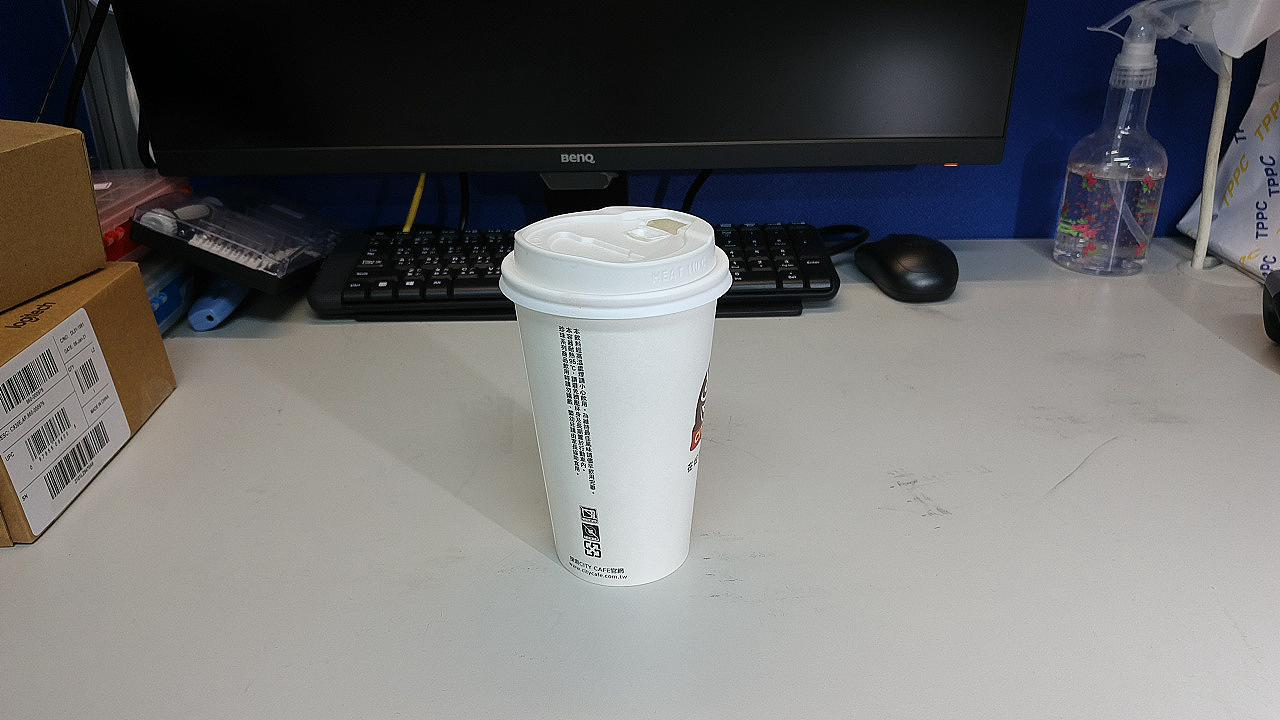columnar: (714, 187, 866, 356)
grip: (676, 232, 735, 326)
